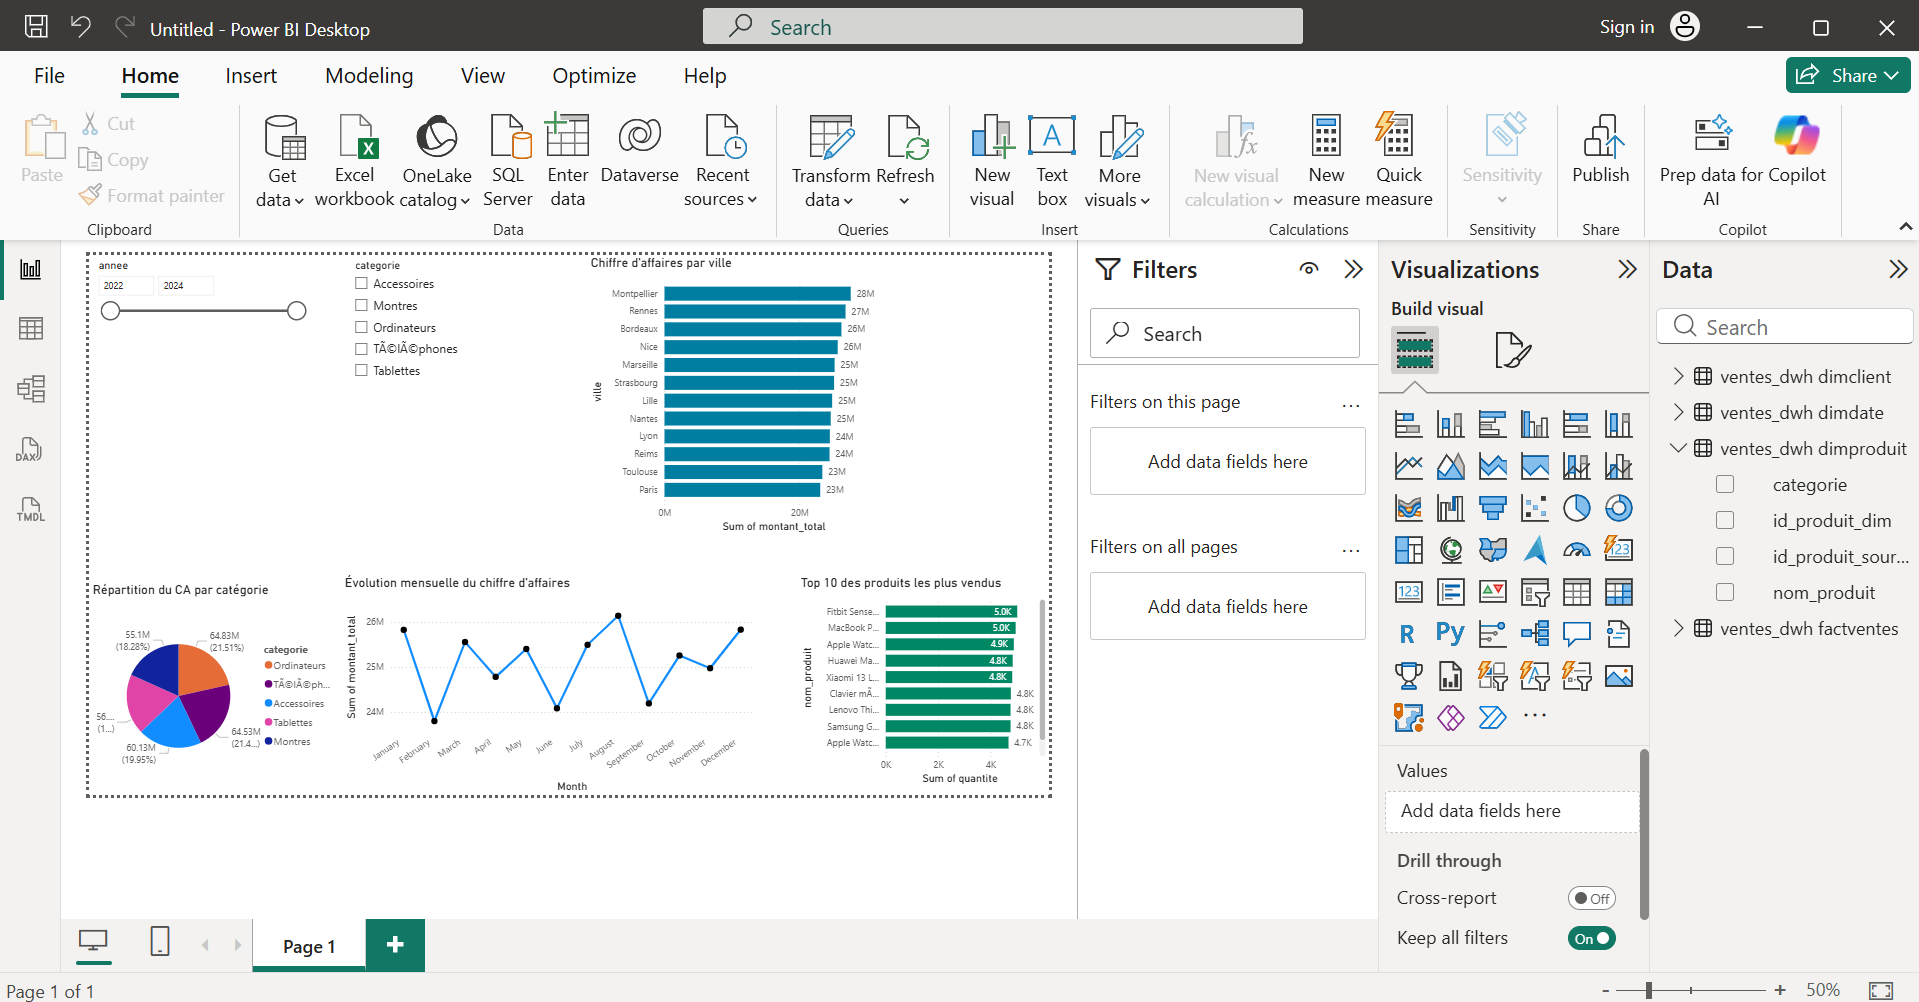

What the dashboard file says about the page in this screenshot:
{"tool":"powerbi","page":{"name":"Page 1","canvas":[1280,720],"ordinal":0},"visuals":[{"type":"barChart","title":"Chiffre d''affaires par ville","fields":{"Category":["ventes_dwh dimclient.ville"],"Y":["Sum(ventes_dwh factventes.montant_total)"]},"box":[316,66,458,342],"z":0},{"type":"pieChart","title":"Répartition du CA par catégorie","fields":{"Category":["ventes_dwh dimproduit.categorie"],"Y":["Sum(ventes_dwh factventes.montant_total)"]},"box":[326,432,336,288],"z":1000},{"type":"lineChart","title":"Évolution mensuelle du chiffre d''affaires","fields":{"Y":["Sum(ventes_dwh factventes.montant_total)"],"Category":["ventes_dwh dimdate.date_complete.Variation.Date Hierarchy.Month"]},"box":[724,432,530,288],"z":2000},{"type":"clusteredBarChart","title":"Top 10 des produits les plus vendus","fields":{"Category":["ventes_dwh dimproduit.nom_produit"],"Y":["Sum(ventes_dwh factventes.quantite)"]},"box":[800,66,432,342],"z":3000},{"type":"slicer","fields":{"Values":["ventes_dwh dimdate.annee"]},"box":[0,164,256,96],"z":4000},{"type":"slicer","fields":{"Values":["ventes_dwh dimproduit.categorie"]},"box":[0,260,210,172],"z":5000},{"type":"card","fields":{"Values":["ventes_dwh factventes.CA Total"]},"box":[0,0,112,72],"z":6000},{"type":"card","fields":{"Values":["ventes_dwh factventes.Panier Moyen"]},"box":[128,66,112,80],"z":7000},{"type":"card","fields":{"Values":["ventes_dwh factventes.Nombre de Ventes"]},"box":[112,0,154,72],"z":8000},{"type":"card","fields":{"Values":["ventes_dwh factventes.Clients Uniques"]},"box":[0,72,128,74],"z":9000},{"type":"textbox","box":[336,0,652,48],"z":10000}]}

Visuals, with their boxes on the page's 1280x720 design canvas (x1, y1, x2, y2). These are canvas units, not pixel positions in the 1919x1002 screenshot, which may show the page scaled, cropped or inside an application window:
"Chiffre d''affaires par ville" barChart: x1=316, y1=66, x2=774, y2=408
"Répartition du CA par catégorie" pieChart: x1=326, y1=432, x2=662, y2=720
"Évolution mensuelle du chiffre d''affaires" lineChart: x1=724, y1=432, x2=1254, y2=720
"Top 10 des produits les plus vendus" clusteredBarChart: x1=800, y1=66, x2=1232, y2=408
slicer - ventes_dwh dimdate.annee: x1=0, y1=164, x2=256, y2=260
slicer - ventes_dwh dimproduit.categorie: x1=0, y1=260, x2=210, y2=432
card - ventes_dwh factventes.CA Total: x1=0, y1=0, x2=112, y2=72
card - ventes_dwh factventes.Panier Moyen: x1=128, y1=66, x2=240, y2=146
card - ventes_dwh factventes.Nombre de Ventes: x1=112, y1=0, x2=266, y2=72
card - ventes_dwh factventes.Clients Uniques: x1=0, y1=72, x2=128, y2=146
textbox: x1=336, y1=0, x2=988, y2=48
